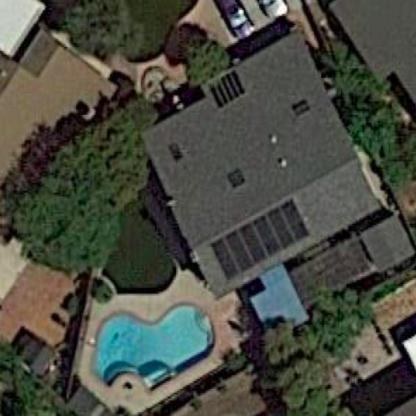car: (221, 1, 250, 50), (255, 1, 303, 24)
solar_panel: (204, 185, 327, 278)
swimming_pool: (84, 291, 237, 393)
